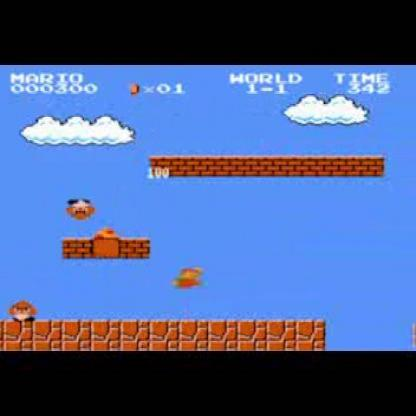Goomba: (10, 296, 38, 321), (67, 197, 94, 218)
Hoyo: (318, 316, 415, 351)
